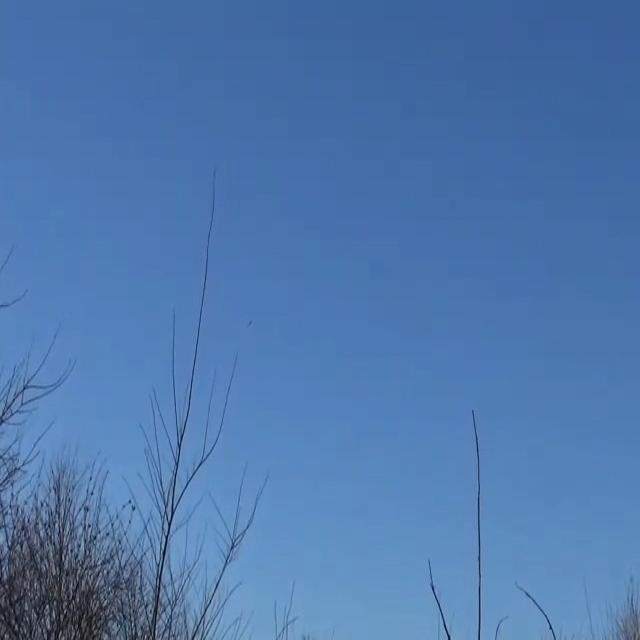bird: (244, 319, 253, 329)
